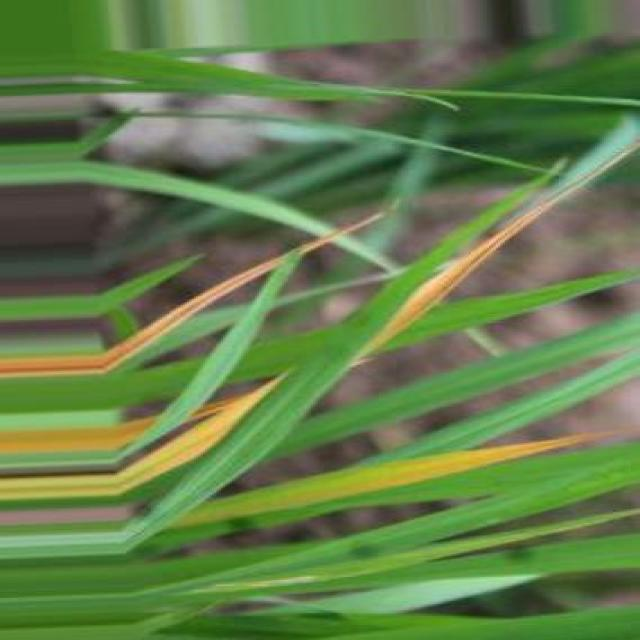Rice Tungro: (362, 114, 639, 358), (178, 434, 596, 528), (0, 377, 283, 501), (0, 256, 287, 377), (294, 213, 382, 256)
